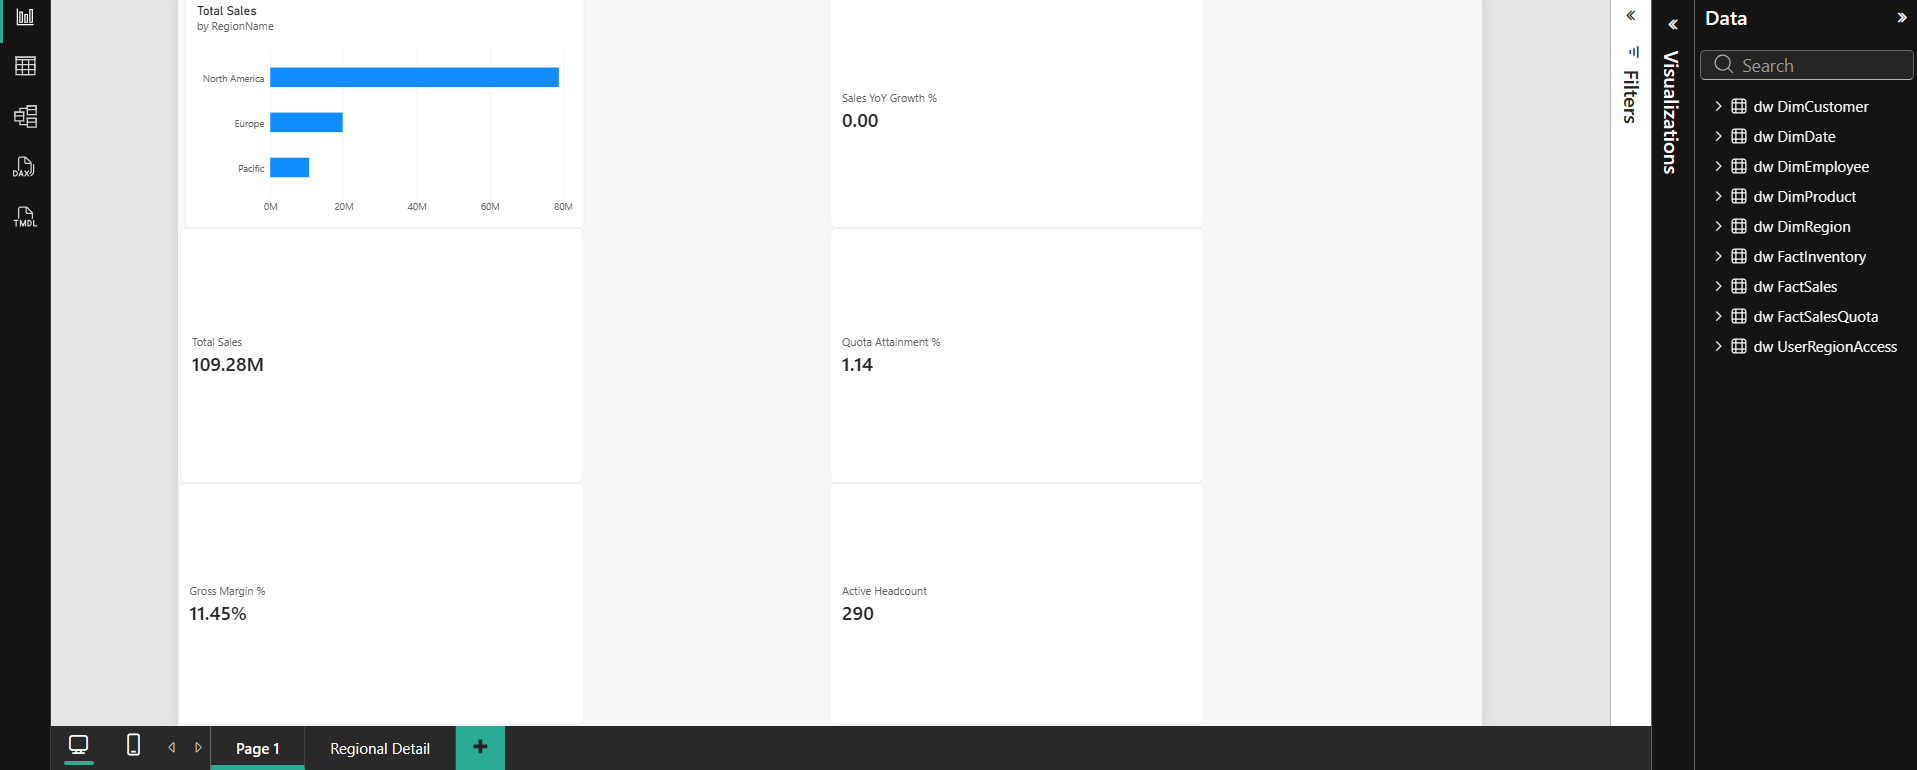

This screenshot's page, from the dashboard's own definition file:
{"tool":"powerbi","page":{"name":"Page 1","canvas":[1920,1080],"ordinal":0},"visuals":[{"type":"barChart","fields":{"Category":["dw DimRegion.RegionName"],"Y":["dw DimCustomer.Total Sales"]},"box":[10.6,0,587.2,346.4],"z":0},{"type":"cardVisual","fields":{"Data":["dw DimCustomer.Total Sales"]},"box":[4.2,346.4,593.5,376],"z":1000},{"type":"cardVisual","fields":{"Data":["dw DimCustomer.Gross Margin %"]},"box":[0,722.4,597.8,357],"z":2000},{"type":"cardVisual","fields":{"Data":["dw DimCustomer.Sales YoY Growth %"]},"box":[961.1,0,549.2,346.4],"z":3000},{"type":"cardVisual","fields":{"Data":["dw DimCustomer.Quota Attainment %"]},"box":[961.1,346.4,549.2,376],"z":4000},{"type":"cardVisual","fields":{"Data":["dw DimCustomer.Active Headcount"]},"box":[961.1,722.4,549.2,357],"z":5000}]}

Visuals, with their boxes on the page's 1920x1080 design canvas (x1, y1, x2, y2). These are canvas units, not pixel positions in the 1917x770 screenshot, which may show the page scaled, cropped or inside an application window:
barChart - dw DimRegion.RegionName x dw DimCustomer.Total Sales: (11, 0, 598, 346)
cardVisual - dw DimCustomer.Total Sales: (4, 346, 598, 722)
cardVisual - dw DimCustomer.Gross Margin %: (0, 722, 598, 1079)
cardVisual - dw DimCustomer.Sales YoY Growth %: (961, 0, 1510, 346)
cardVisual - dw DimCustomer.Quota Attainment %: (961, 346, 1510, 722)
cardVisual - dw DimCustomer.Active Headcount: (961, 722, 1510, 1079)
